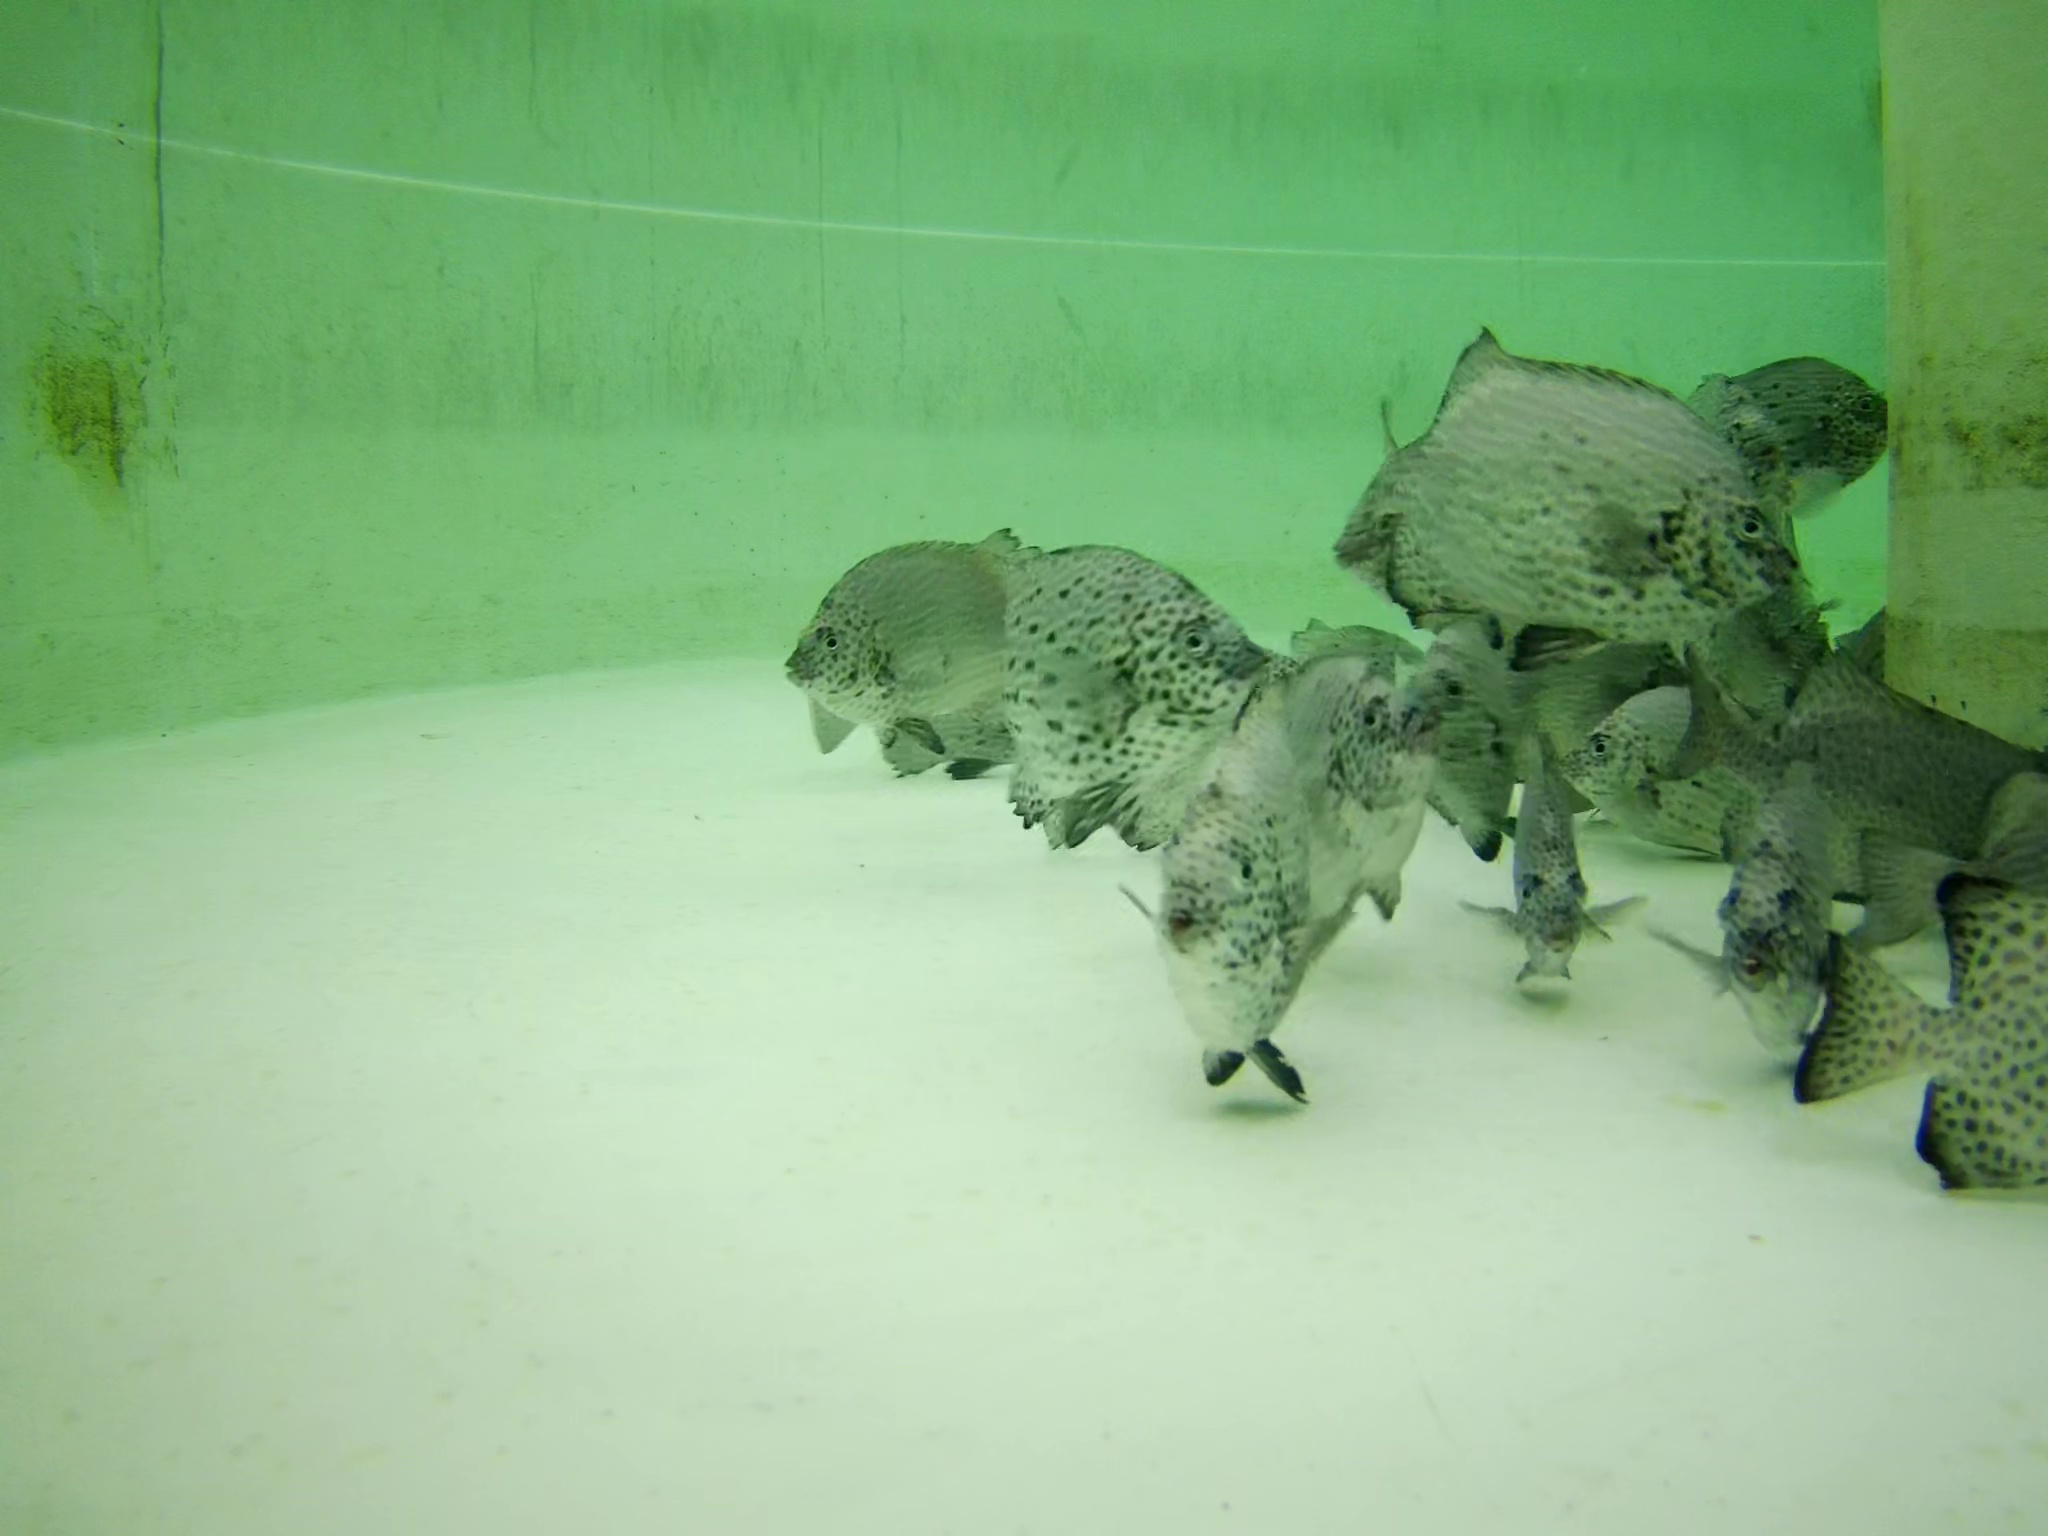fish: (1342, 311, 1785, 642), (974, 544, 1293, 786), (1816, 874, 2048, 1191), (1122, 752, 1326, 1091), (1221, 655, 1429, 934), (779, 531, 1061, 724), (1714, 742, 1850, 1057), (1667, 350, 1892, 524), (1488, 742, 1621, 1002), (1561, 702, 1779, 855), (1395, 616, 1519, 847), (1240, 603, 1409, 760), (1861, 778, 2048, 918), (822, 657, 1027, 779)
